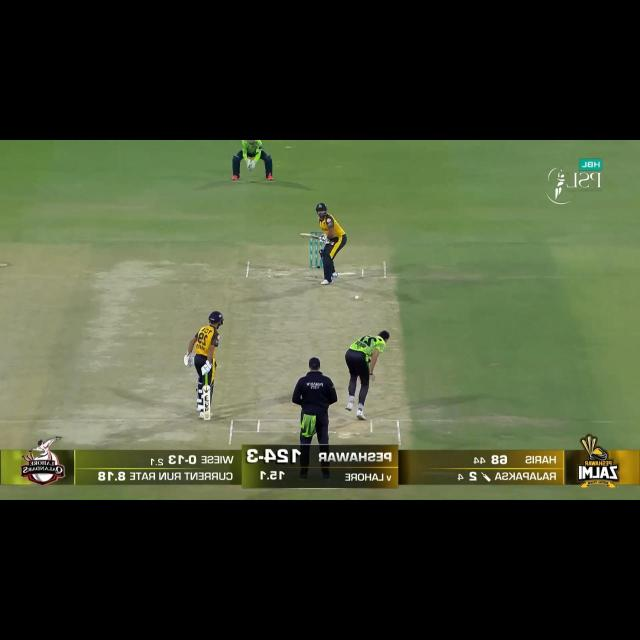bat: (200, 386, 213, 420), (299, 231, 321, 240)
toe: (298, 231, 306, 240), (201, 413, 211, 420)
